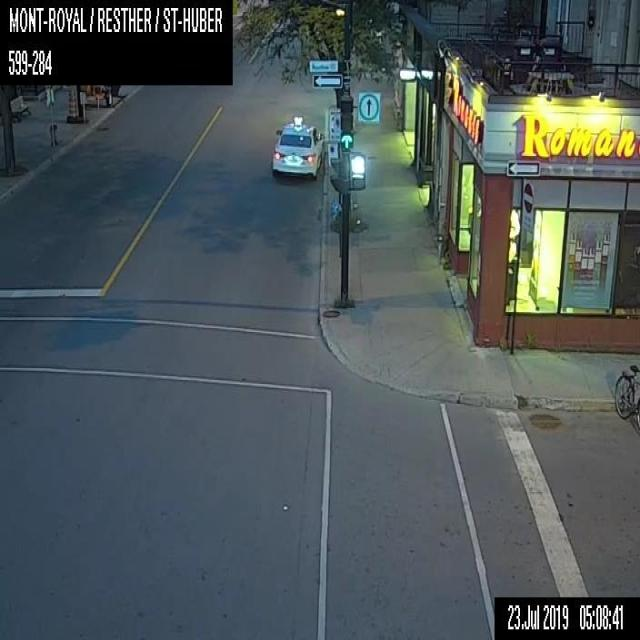construction: (68, 87, 75, 116)
vehicle: (271, 116, 324, 178)
